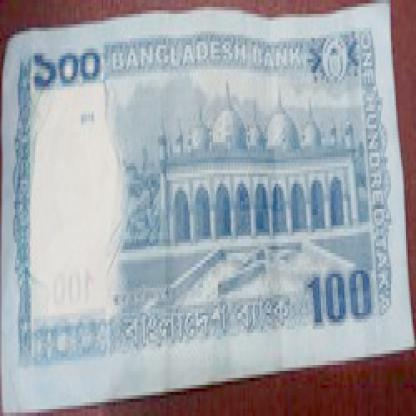one hundred taka: (303, 263, 378, 330), (33, 45, 105, 94)
